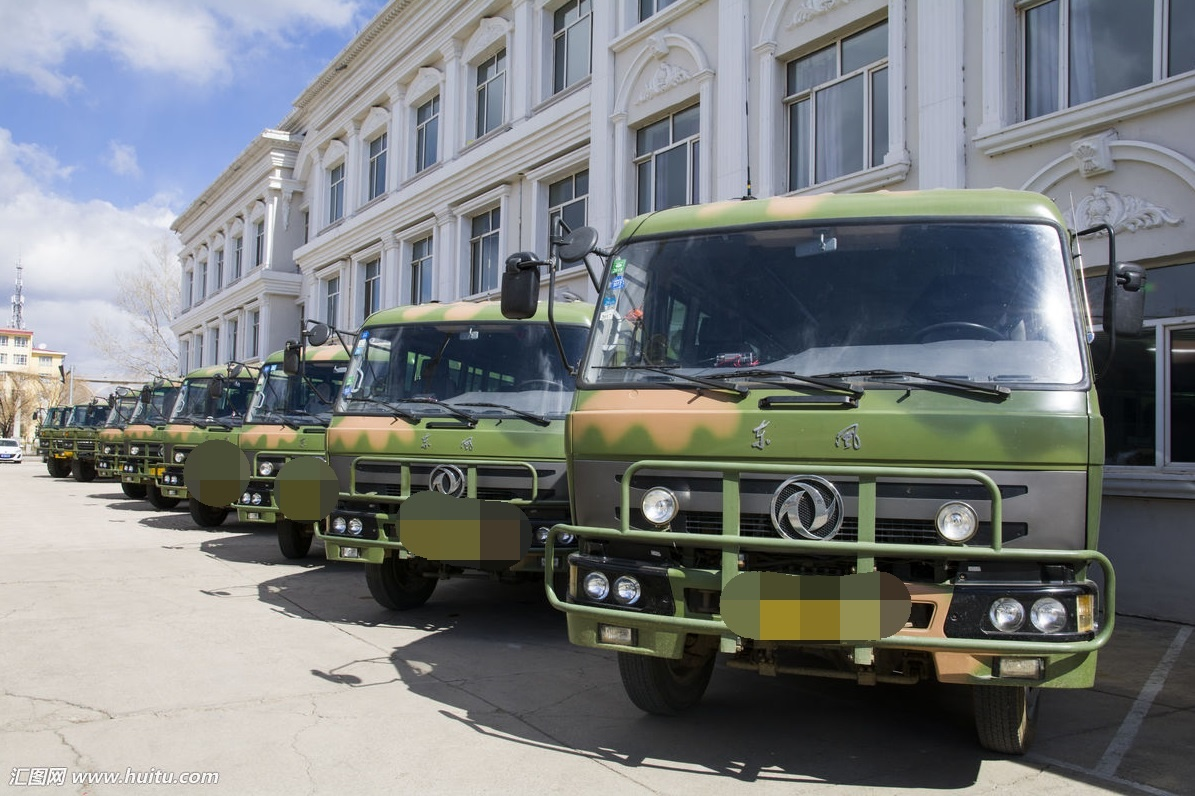truck: (554, 173, 1119, 740)
